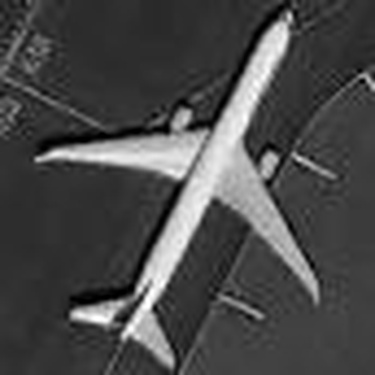airplane: (18, 1, 344, 367)
